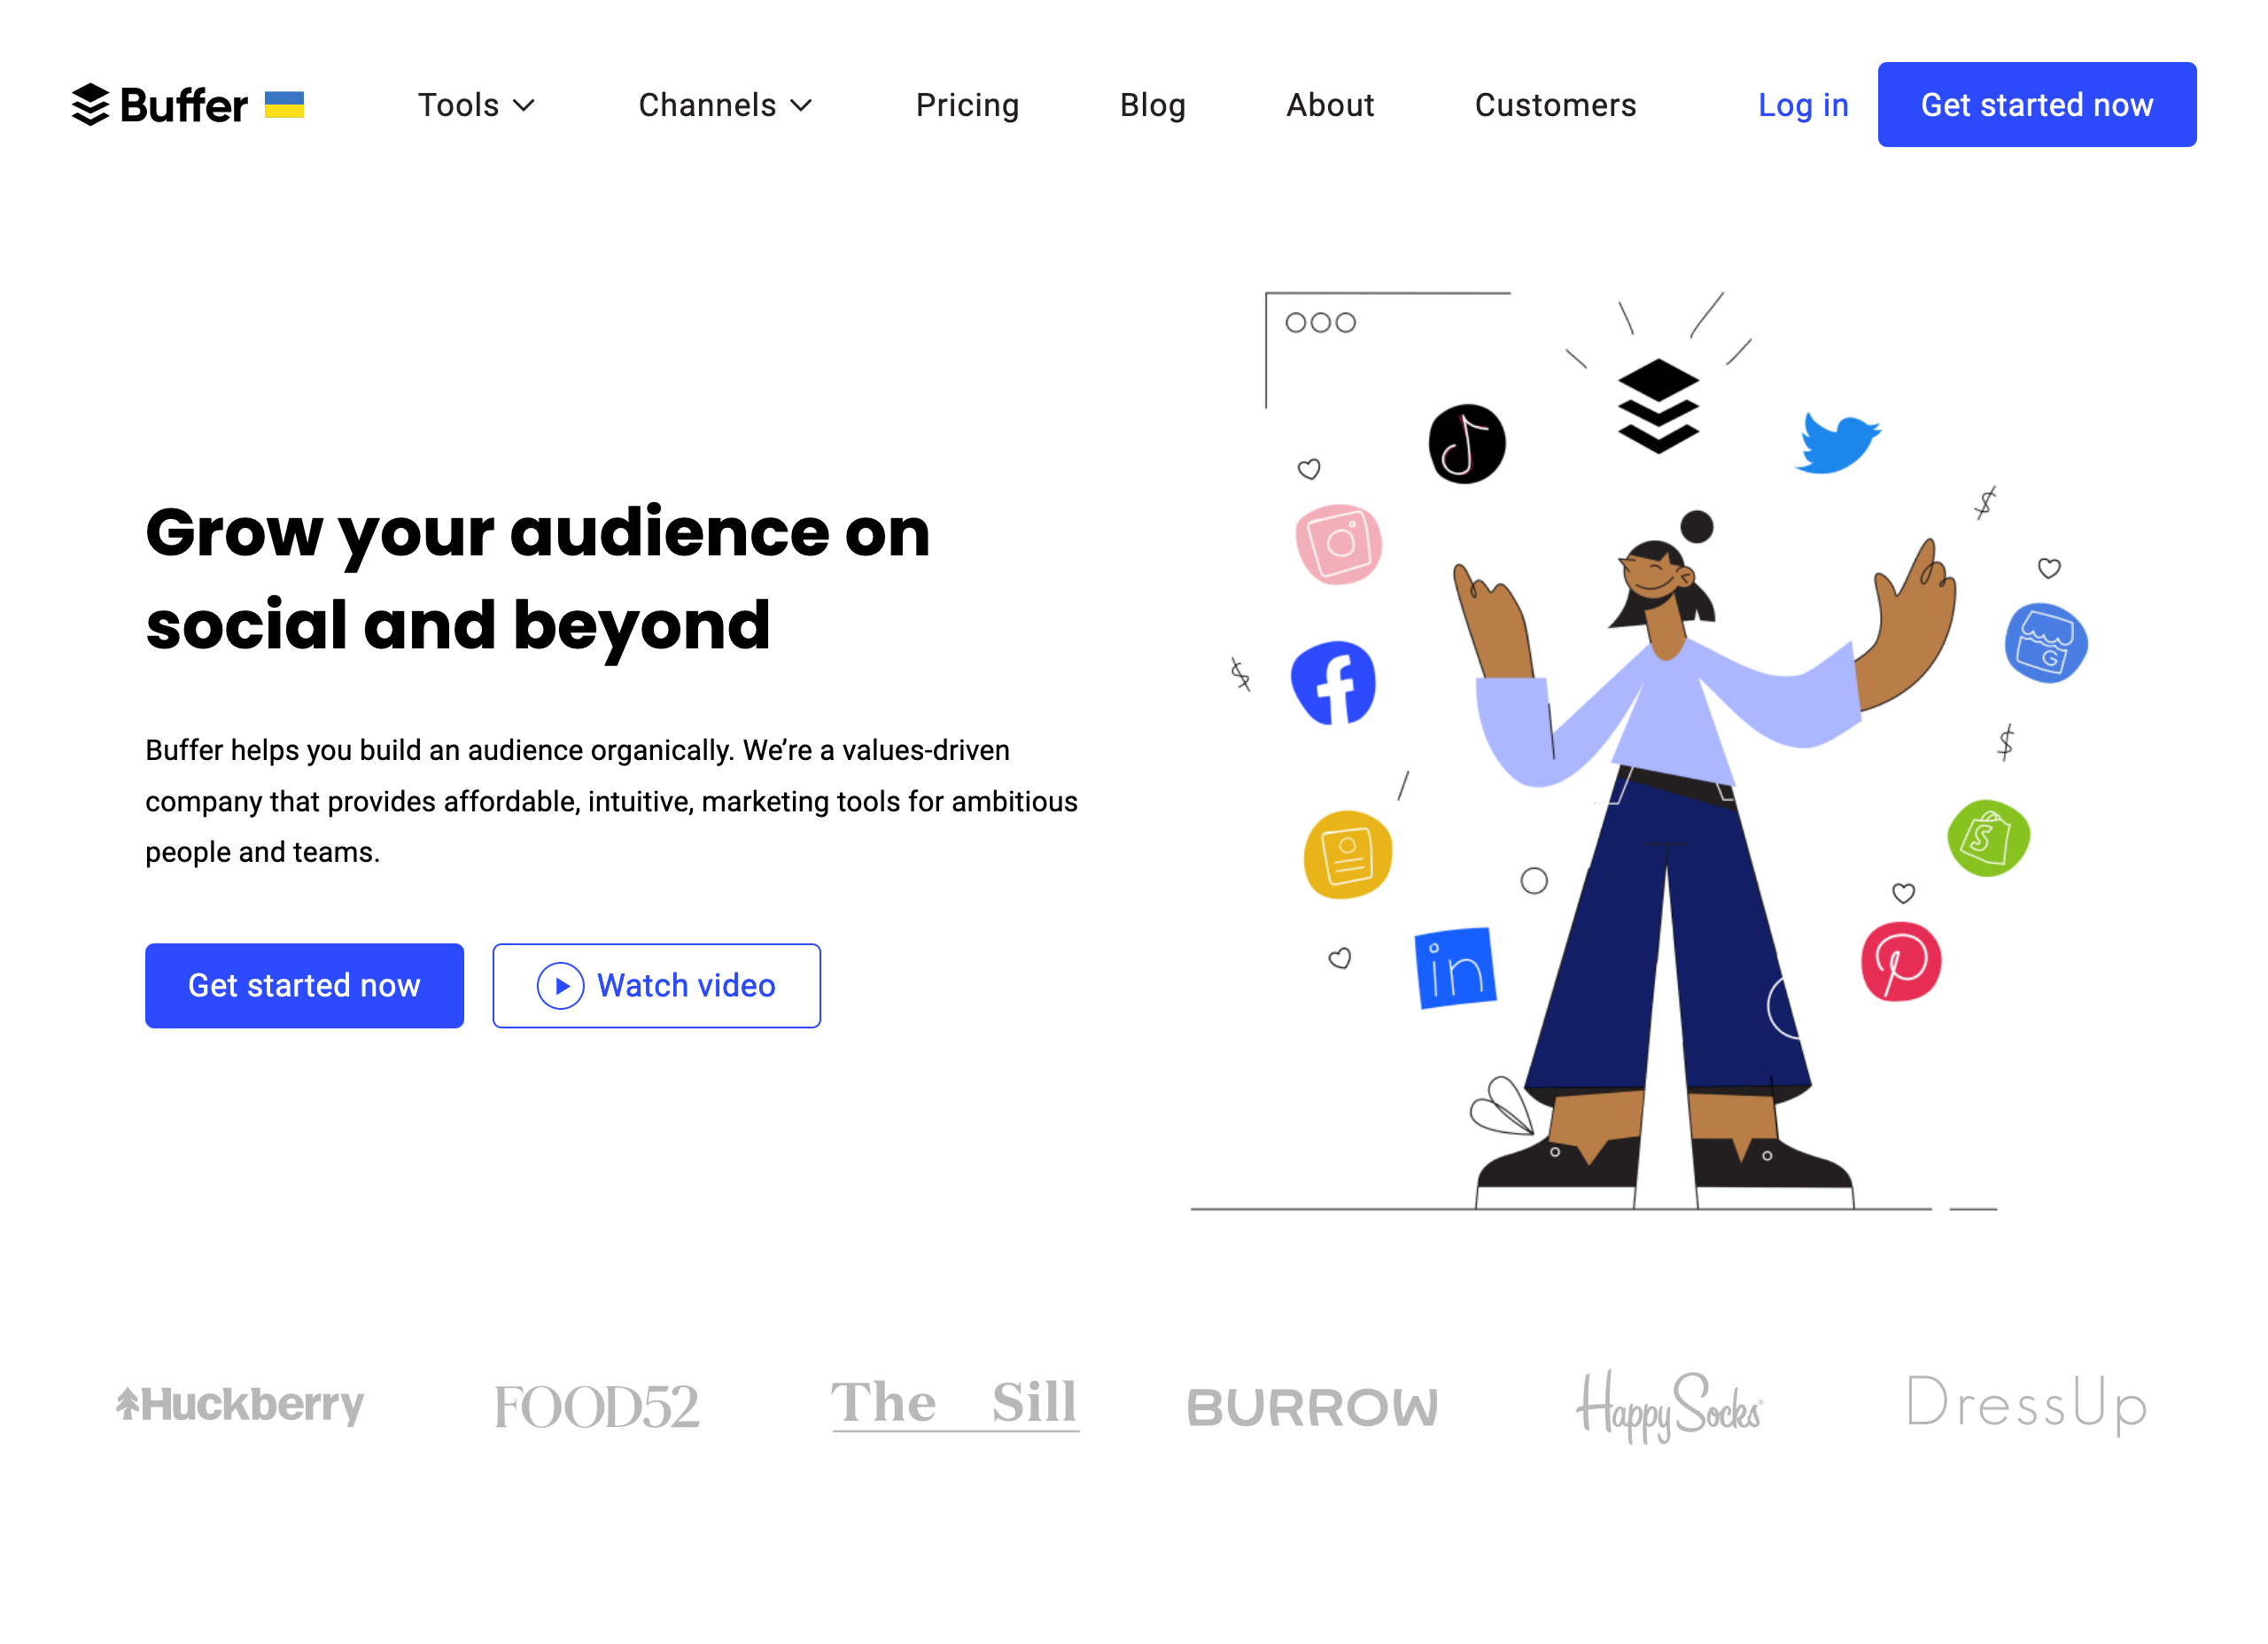Login: (1747, 70, 1865, 139)
